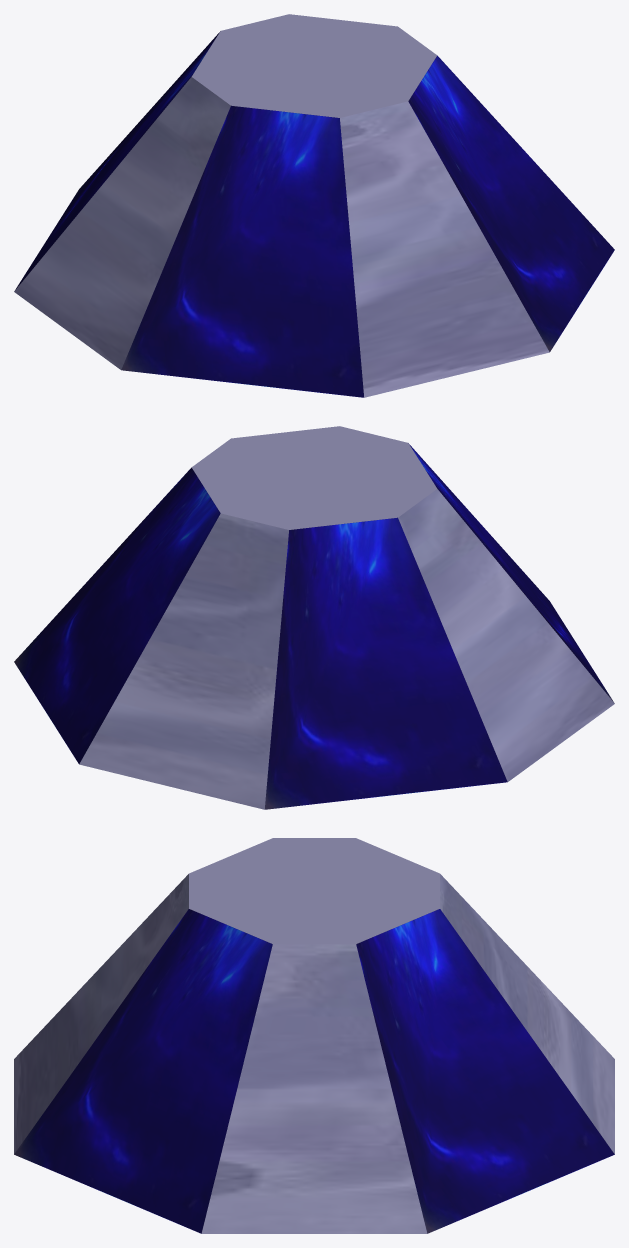
Rendered from alert.gltf.
3 views of the same model, one above another, from view 1: azimuth 30°, elevation 25°; view 2: azimuth 150°, elevation 25°; view 3: azimuth 270°, elevation 25° (orthographic). The views are drawn at different scales.
Parts seen in each view (by area): view 1: Mesh_1, Mesh_0; view 2: Mesh_1, Mesh_0; view 3: Mesh_1, Mesh_0.
Boxes of the visible parts, x1,y1,x2,y2 form: Mesh_1: (14, 14, 549, 397); Mesh_0: (15, 31, 614, 397); Mesh_1: (79, 426, 614, 809); Mesh_0: (14, 443, 613, 809); Mesh_1: (14, 838, 614, 1233); Mesh_0: (14, 909, 614, 1233).
Size of the model in its own units: 0.3879 by 0.1537 by 0.3879.
2 materials, 2 textured.
